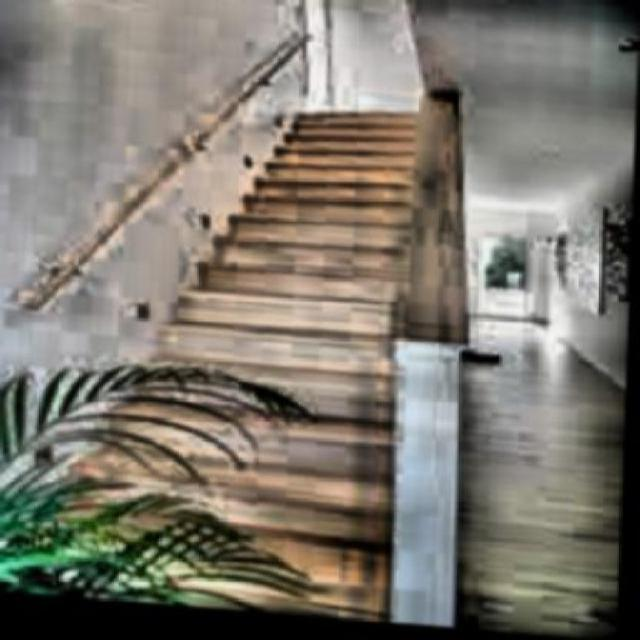stair: (28, 74, 534, 592)
